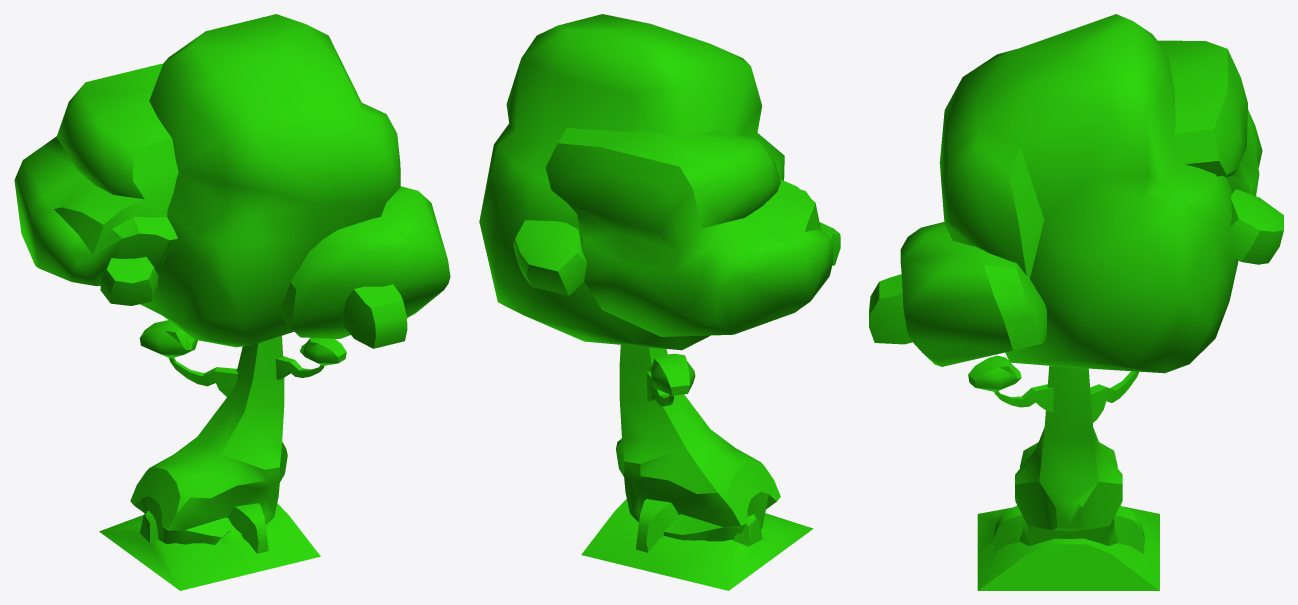
File: FOL_Foliage_03.FBX
3 views of the same model, side by side, from view 1: azimuth 30°, elevation 25°; view 2: azimuth 150°, elevation 25°; view 3: azimuth 270°, elevation 25° (orthographic). The views are drawn at different scales.
Parts seen in each view (by area): view 1: FOL_Foliage_03; view 2: FOL_Foliage_03; view 3: FOL_Foliage_03.
Part boxes in pixels (<box>): FOL_Foliage_03: <box>14,14,450,590</box>; FOL_Foliage_03: <box>479,14,840,590</box>; FOL_Foliage_03: <box>869,14,1283,590</box>.
Size of the model in its own units: 14.3 by 19.82 by 13.66.
